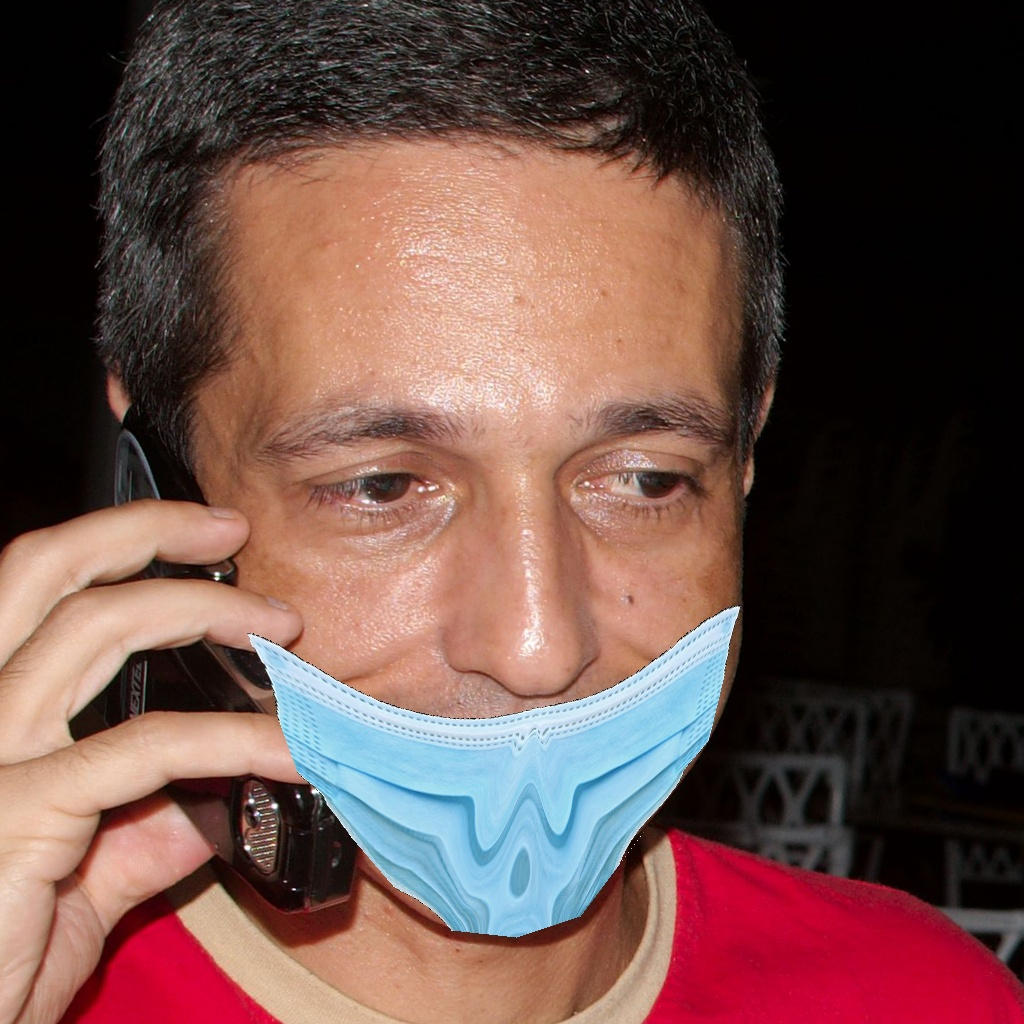mask_weared_incorrect: (229, 378, 749, 943)
